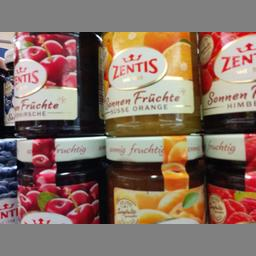jam: (100, 32, 202, 133), (12, 31, 102, 136), (104, 136, 206, 223), (14, 136, 104, 222), (196, 30, 254, 132), (201, 132, 255, 222)
